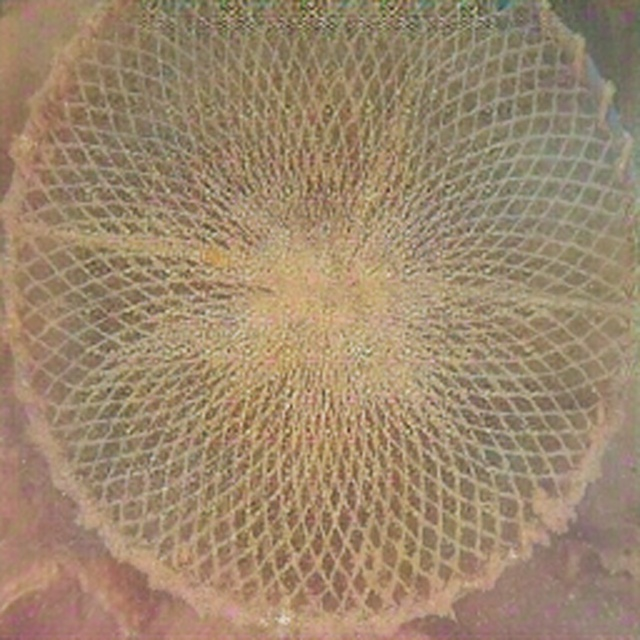mine: (1, 0, 638, 632)
